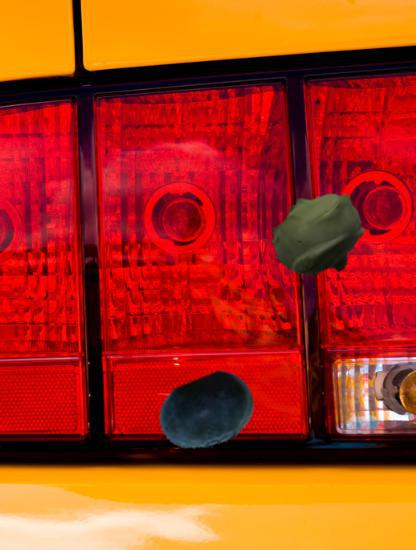Blueberry: (157, 363, 257, 463)
Kohlrabi: (271, 186, 369, 284)
